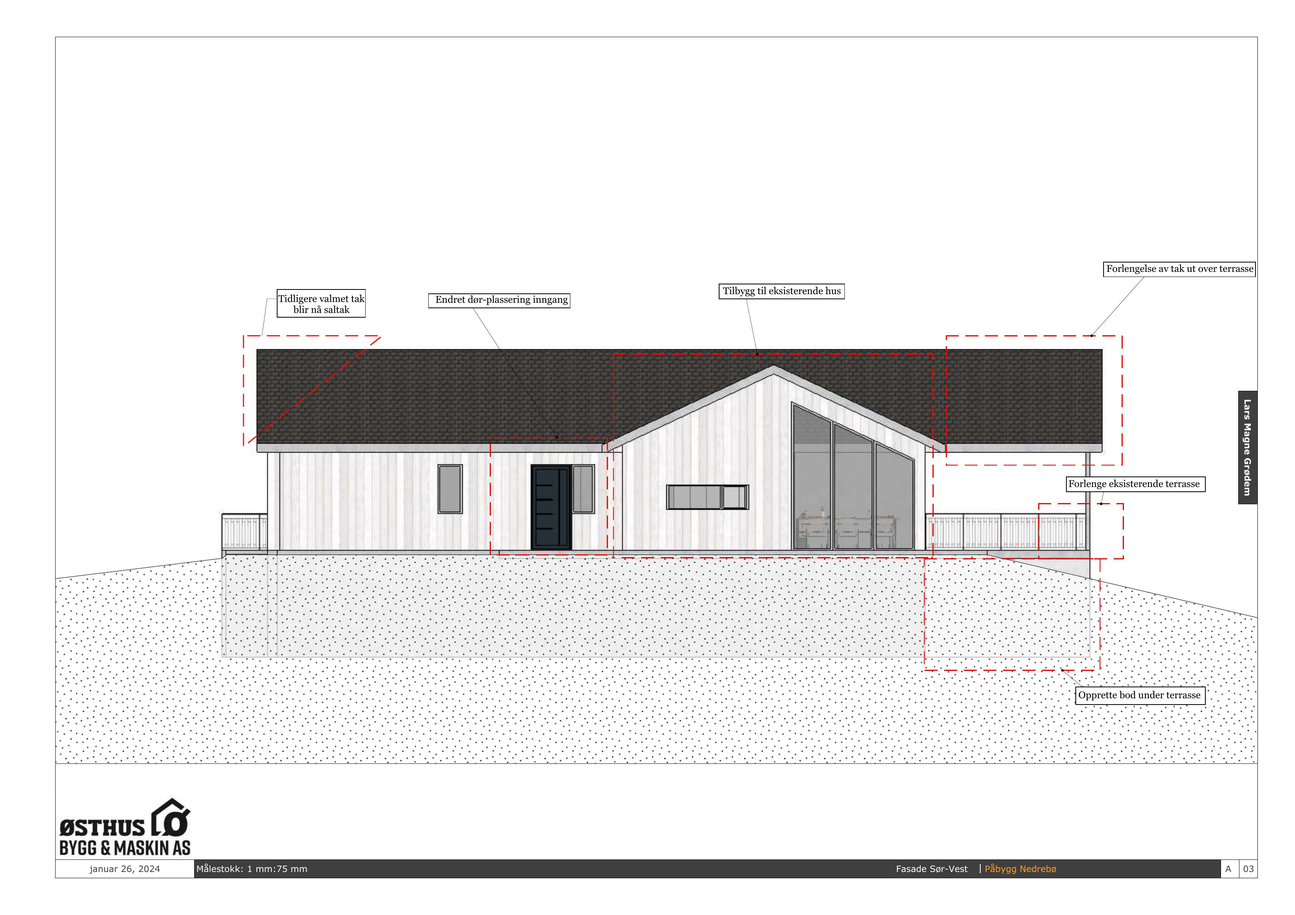fasade: (219, 349, 1104, 661)
